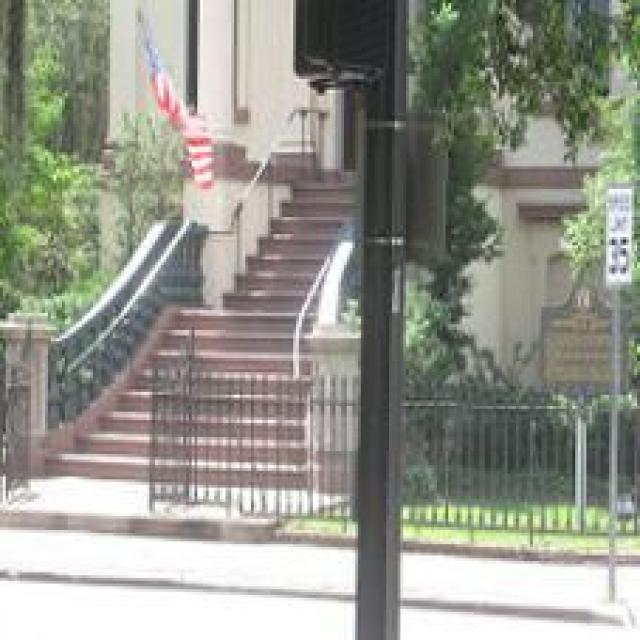upstair: (52, 252, 339, 486)
